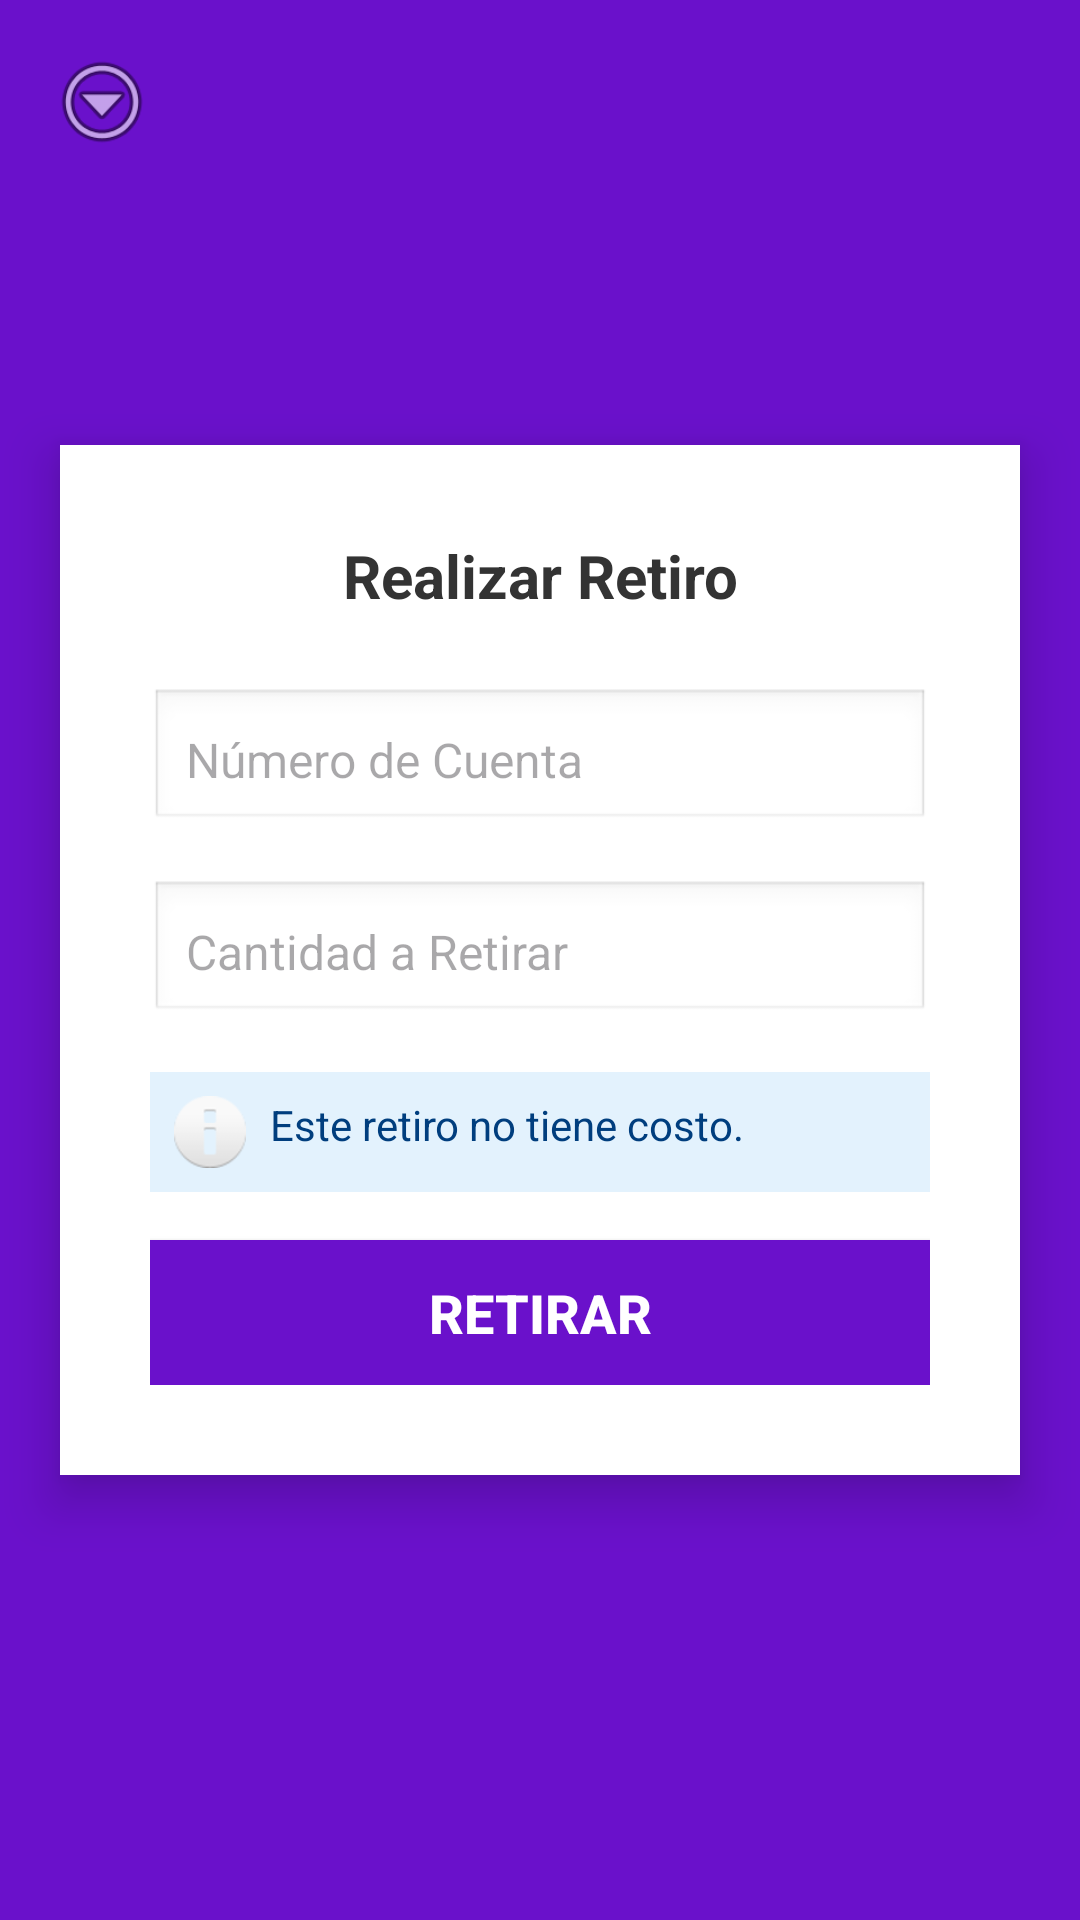

Icon bounding boxes for this 1080w x 1920h phone screenshot, format (x1,y1,x2,y2):
Abrir menú: (62,62,142,142)
info: (174,1096,246,1168)
